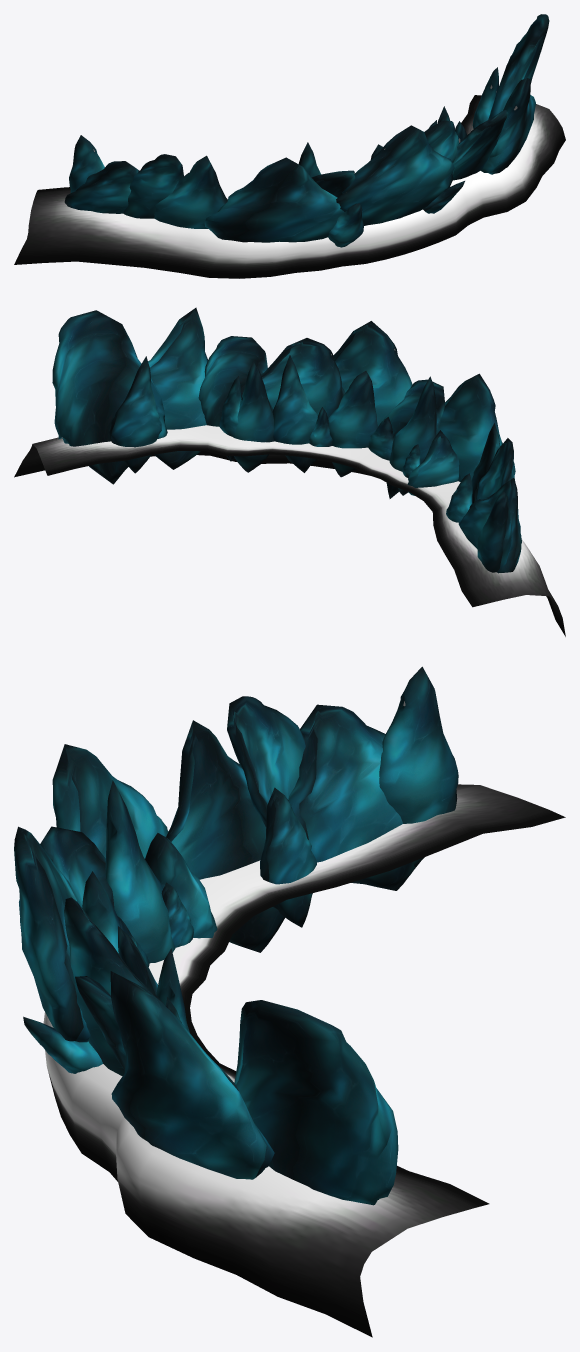
Rendered from IceWall3.fbx.
3 views of the same model, one above another, from view 1: azimuth 30°, elevation 25°; view 2: azimuth 150°, elevation 25°; view 3: azimuth 270°, elevation 25° (orthographic). The views are drawn at different scales.
Visible parts, largest first — view 1: 9fx_raid2_kelthuzad_icewall; view 2: 9fx_raid2_kelthuzad_icewall; view 3: 9fx_raid2_kelthuzad_icewall.
Boxes of the visible parts, x1=… form: 9fx_raid2_kelthuzad_icewall: x1=14, y1=14, x2=565, y2=278; 9fx_raid2_kelthuzad_icewall: x1=14, y1=307, x2=565, y2=636; 9fx_raid2_kelthuzad_icewall: x1=14, y1=666, x2=565, y2=1337.
Size of the model in its own units: 8633 by 2393 by 3928.
